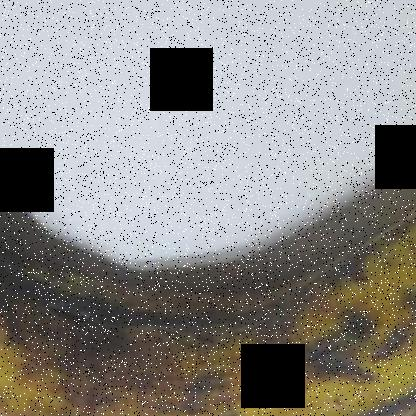overripe: (0, 167, 415, 416)
